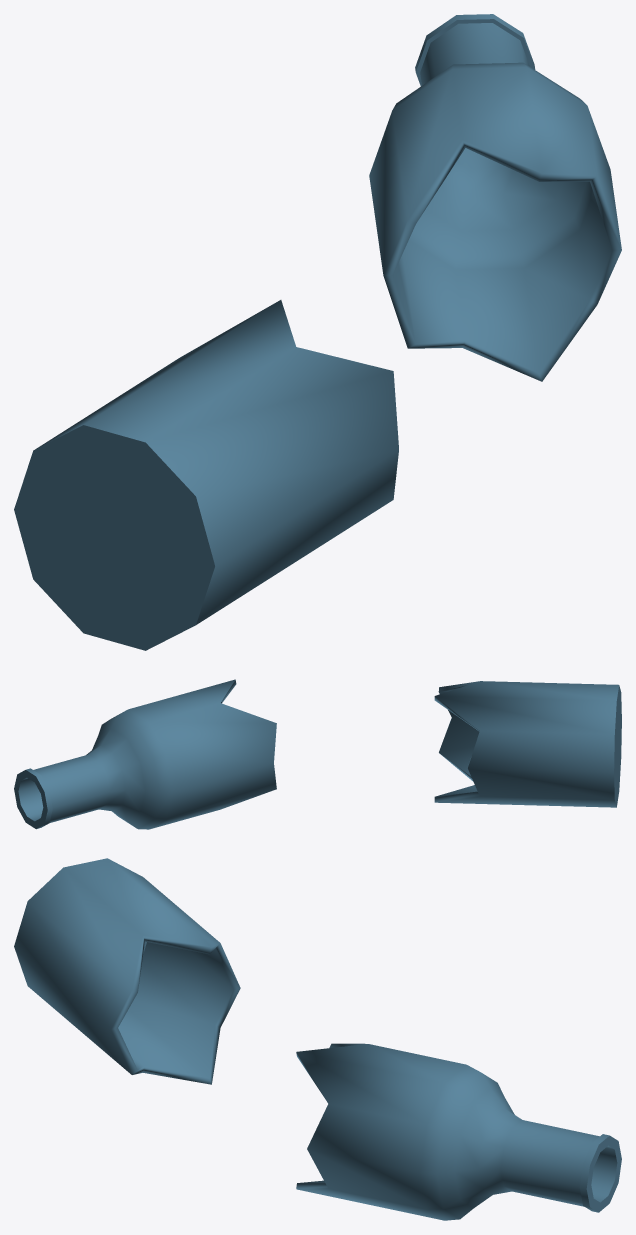
File: basag_bote.fbx
The picture shows the model from 3 angles, top to bottom: view 1: azimuth 30°, elevation 25°; view 2: azimuth 150°, elevation 25°; view 3: azimuth 270°, elevation 25°; orthographic projection. The views are drawn at different scales.
Visible parts, largest first — view 1: trashes.007; view 2: trashes.007; view 3: trashes.007.
Part boxes in pixels (<box>): trashes.007: <box>14,14,621,650</box>; trashes.007: <box>14,679,621,829</box>; trashes.007: <box>14,858,621,1220</box>.
Bounding box in the file's own units: 255 × 59.89 × 240.
